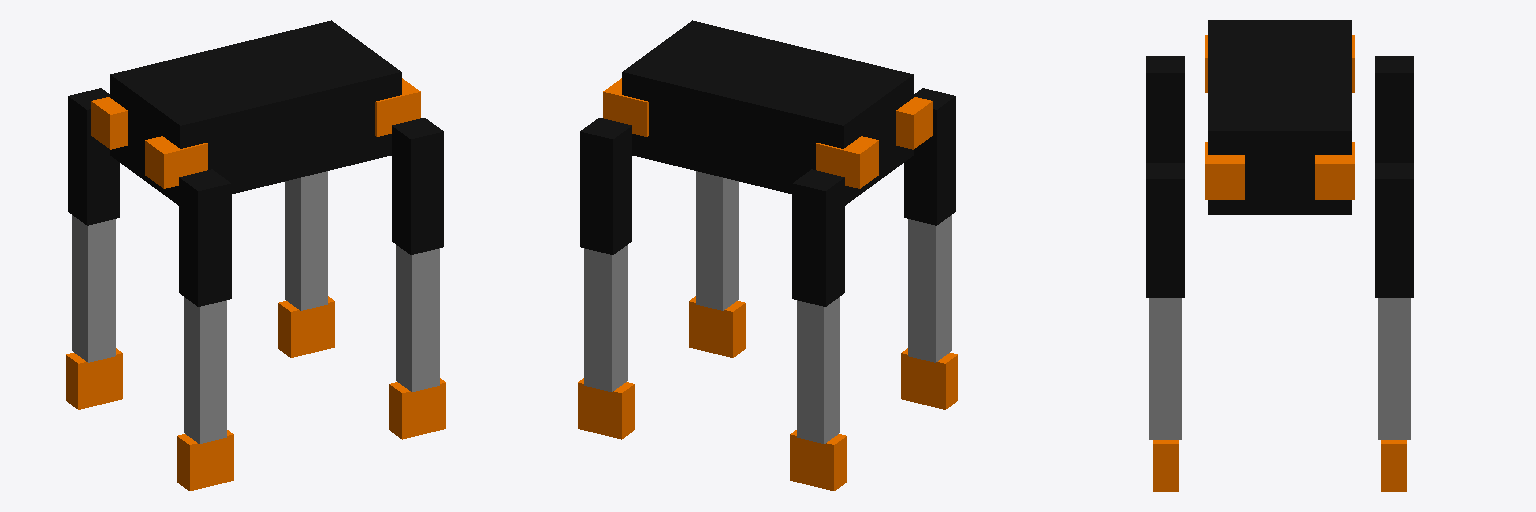
URDF robot description (spot_box_only):
<?xml version="1.0" encoding="utf-8"?>
<robot name="spot_box_only">

  <material name="orange">
    <color rgba="1.0 0.5 0.0 1"/>
  </material>
  <material name="black">
    <color rgba="0.1 0.1 0.1 1"/>
  </material>
  <material name="grey">
    <color rgba="0.6 0.6 0.6 1"/>
  </material>

  <!-- =========================
       BASE
       ========================= -->
  <link name="base_link">
    <visual>
      <origin xyz="0 0 0" rpy="0 0 0"/>
      <geometry>
        <box size="0.20 0.11 0.07"/>
      </geometry>
      <material name="black"/>
    </visual>
    <collision>
      <origin xyz="0 0 0" rpy="0 0 0"/>
      <geometry>
        <box size="0.20 0.11 0.07"/>
      </geometry>
    </collision>
    <inertial>
      <origin xyz="0 0 0" rpy="0 0 0"/>
      <mass value="1.2"/>
      <inertia ixx="0.0025" ixy="0" ixz="0"
               iyy="0.0015" iyz="0"
               izz="0.0026"/>
    </inertial>
  </link>

  <!-- =========================
       FRONT LEFT
       ========================= -->
  <link name="front_left_hip">
    <visual>
      <origin xyz="0 0 0" rpy="0 0 0"/>
      <geometry>
        <box size="0.04 0.03 0.03"/>
      </geometry>
      <material name="orange"/>
    </visual>
    <collision>
      <origin xyz="0 0 0" rpy="0 0 0"/>
      <geometry>
        <box size="0.04 0.03 0.03"/>
      </geometry>
    </collision>
    <inertial>
      <origin xyz="0 0 0" rpy="0 0 0"/>
      <mass value="0.10"/>
      <inertia ixx="0.00014" ixy="0" ixz="0"
               iyy="0.00011" iyz="0"
               izz="0.00011"/>
    </inertial>
  </link>

  <joint name="motor_front_left_hip" type="revolute">
    <parent link="base_link"/>
    <child link="front_left_hip"/>
    <origin xyz="0.096 0.042 0.0" rpy="0 0 0"/>
    <axis xyz="1 0 0"/>
    <limit effort="100.0" lower="-1.04" upper="1.04" velocity="0.7"/>
    <dynamics damping="0.0" friction="0.0"/>
  </joint>

  <link name="front_left_upper_leg">
    <visual>
      <origin xyz="0 0 -0.05" rpy="0 0 0"/>
      <geometry>
        <box size="0.03 0.03 0.10"/>
      </geometry>
      <material name="black"/>
    </visual>
    <collision>
      <origin xyz="0 0 -0.05" rpy="0 0 0"/>
      <geometry>
        <box size="0.03 0.03 0.10"/>
      </geometry>
    </collision>
    <inertial>
      <origin xyz="0 0 -0.05" rpy="0 0 0"/>
      <mass value="0.10"/>
      <inertia ixx="0.00014" ixy="0" ixz="0"
               iyy="0.00014" iyz="0"
               izz="0.00003"/>
    </inertial>
  </link>

  <joint name="motor_front_left_upper_leg" type="revolute">
    <parent link="front_left_hip"/>
    <child link="front_left_upper_leg"/>
    <origin xyz="0.0 0.045 0.0" rpy="0 0 0"/>
    <axis xyz="0 1 0"/>
    <limit effort="100.0" lower="-1.571" upper="2.59" velocity="0.7"/>
    <dynamics damping="0.0" friction="0.0"/>
  </joint>

  <link name="front_left_lower_leg">
    <visual>
      <origin xyz="0 0 -0.06" rpy="0 0 0"/>
      <geometry>
        <box size="0.025 0.025 0.12"/>
      </geometry>
      <material name="grey"/>
    </visual>
    <collision>
      <origin xyz="0 0 -0.06" rpy="0 0 0"/>
      <geometry>
        <box size="0.025 0.025 0.12"/>
      </geometry>
    </collision>
    <inertial>
      <origin xyz="0 0 -0.06" rpy="0 0 0"/>
      <mass value="0.08"/>
      <inertia ixx="0.00007" ixy="0" ixz="0"
               iyy="0.00007" iyz="0"
               izz="0.00001"/>
    </inertial>
  </link>

  <joint name="motor_front_left_lower_leg" type="revolute">
    <parent link="front_left_upper_leg"/>
    <child link="front_left_lower_leg"/>
    <origin xyz="0.0 0.0 -0.10" rpy="0 0 0"/>
    <axis xyz="0 1 0"/>
    <limit effort="100.0" lower="-2.9" upper="1.671" velocity="0.7"/>
    <dynamics damping="0.0" friction="0.0"/>
  </joint>

  <link name="front_left_foot">
    <visual>
      <origin xyz="0 0 -0.02" rpy="0 0 0"/>
      <geometry>
        <box size="0.04 0.02 0.04"/>
      </geometry>
      <material name="orange"/>
    </visual>
    <collision>
      <origin xyz="0 0 -0.02" rpy="0 0 0"/>
      <geometry>
        <box size="0.04 0.02 0.04"/>
      </geometry>
    </collision>
    <inertial>
      <origin xyz="0 0 -0.02" rpy="0 0 0"/>
      <mass value="0.01"/>
      <inertia ixx="0.000005" ixy="0" ixz="0"
               iyy="0.000005" iyz="0"
               izz="0.000005"/>
    </inertial>
  </link>

  <joint name="front_left_leg_foot" type="fixed">
    <parent link="front_left_lower_leg"/>
    <child link="front_left_foot"/>
    <origin xyz="0 0 -0.12" rpy="0 0 0"/>
  </joint>

  <!-- =========================
       FRONT RIGHT
       ========================= -->
  <link name="front_right_hip">
    <visual><origin xyz="0 0 0"/><geometry><box size="0.04 0.03 0.03"/></geometry><material name="orange"/></visual>
    <collision><origin xyz="0 0 0"/><geometry><box size="0.04 0.03 0.03"/></geometry></collision>
    <inertial><origin xyz="0 0 0"/><mass value="0.10"/><inertia ixx="0.00014" ixy="0" ixz="0" iyy="0.00011" iyz="0" izz="0.00011"/></inertial>
  </link>

  <joint name="motor_front_right_hip" type="revolute">
    <parent link="base_link"/>
    <child link="front_right_hip"/>
    <origin xyz="0.096 -0.042 0.0" rpy="0 0 0"/>
    <axis xyz="1 0 0"/>
    <limit effort="100.0" lower="-1.04" upper="1.04" velocity="0.7"/>
  </joint>

  <link name="front_right_upper_leg">
    <visual><origin xyz="0 0 -0.05"/><geometry><box size="0.03 0.03 0.10"/></geometry><material name="black"/></visual>
    <collision><origin xyz="0 0 -0.05"/><geometry><box size="0.03 0.03 0.10"/></geometry></collision>
    <inertial><origin xyz="0 0 -0.05"/><mass value="0.10"/><inertia ixx="0.00014" ixy="0" ixz="0" iyy="0.00014" iyz="0" izz="0.00003"/></inertial>
  </link>

  <joint name="motor_front_right_upper_leg" type="revolute">
    <parent link="front_right_hip"/>
    <child link="front_right_upper_leg"/>
    <origin xyz="0.0 -0.045 0.0" rpy="0 0 0"/>
    <axis xyz="0 1 0"/>
    <limit effort="100.0" lower="-1.571" upper="2.59" velocity="0.7"/>
  </joint>

  <link name="front_right_lower_leg">
    <visual><origin xyz="0 0 -0.06"/><geometry><box size="0.025 0.025 0.12"/></geometry><material name="grey"/></visual>
    <collision><origin xyz="0 0 -0.06"/><geometry><box size="0.025 0.025 0.12"/></geometry></collision>
    <inertial><origin xyz="0 0 -0.06"/><mass value="0.08"/><inertia ixx="0.00007" ixy="0" ixz="0" iyy="0.00007" iyz="0" izz="0.00001"/></inertial>
  </link>

  <joint name="motor_front_right_lower_leg" type="revolute">
    <parent link="front_right_upper_leg"/>
    <child link="front_right_lower_leg"/>
    <origin xyz="0.0 0.0 -0.10" rpy="0 0 0"/>
    <axis xyz="0 1 0"/>
    <limit effort="100.0" lower="-2.9" upper="1.671" velocity="0.7"/>
  </joint>

  <link name="front_right_foot">
    <visual><origin xyz="0 0 -0.02"/><geometry><box size="0.04 0.02 0.04"/></geometry><material name="orange"/></visual>
    <collision><origin xyz="0 0 -0.02"/><geometry><box size="0.04 0.02 0.04"/></geometry></collision>
    <inertial><origin xyz="0 0 -0.02"/><mass value="0.01"/><inertia ixx="0.000005" ixy="0" ixz="0" iyy="0.000005" iyz="0" izz="0.000005"/></inertial>
  </link>

  <joint name="front_right_leg_foot" type="fixed">
    <parent link="front_right_lower_leg"/>
    <child link="front_right_foot"/>
    <origin xyz="0 0 -0.12" rpy="0 0 0"/>
  </joint>

  <!-- =========================
       BACK LEFT
       ========================= -->
  <link name="back_left_hip">
    <visual><origin xyz="0 0 0"/><geometry><box size="0.04 0.03 0.03"/></geometry><material name="orange"/></visual>
    <collision><origin xyz="0 0 0"/><geometry><box size="0.04 0.03 0.03"/></geometry></collision>
    <inertial><origin xyz="0 0 0"/><mass value="0.10"/><inertia ixx="0.00014" ixy="0" ixz="0" iyy="0.00011" iyz="0" izz="0.00011"/></inertial>
  </link>

  <joint name="motor_back_left_hip" type="revolute">
    <parent link="base_link"/>
    <child link="back_left_hip"/>
    <origin xyz="-0.096 0.042 0.0" rpy="0 0 0"/>
    <axis xyz="1 0 0"/>
    <limit effort="100.0" lower="-1.04" upper="1.04" velocity="0.7"/>
  </joint>

  <link name="back_left_upper_leg">
    <visual><origin xyz="0 0 -0.05"/><geometry><box size="0.03 0.03 0.10"/></geometry><material name="black"/></visual>
    <collision><origin xyz="0 0 -0.05"/><geometry><box size="0.03 0.03 0.10"/></geometry></collision>
    <inertial><origin xyz="0 0 -0.05"/><mass value="0.10"/><inertia ixx="0.00014" ixy="0" ixz="0" iyy="0.00014" iyz="0" izz="0.00003"/></inertial>
  </link>

  <joint name="motor_back_left_upper_leg" type="revolute">
    <parent link="back_left_hip"/>
    <child link="back_left_upper_leg"/>
    <origin xyz="0.0 0.045 0.0" rpy="0 0 0"/>
    <axis xyz="0 1 0"/>
    <limit effort="100.0" lower="-1.571" upper="2.59" velocity="0.7"/>
  </joint>

  <link name="back_left_lower_leg">
    <visual><origin xyz="0 0 -0.06"/><geometry><box size="0.025 0.025 0.12"/></geometry><material name="grey"/></visual>
    <collision><origin xyz="0 0 -0.06"/><geometry><box size="0.025 0.025 0.12"/></geometry></collision>
    <inertial><origin xyz="0 0 -0.06"/><mass value="0.08"/><inertia ixx="0.00007" ixy="0" ixz="0" iyy="0.00007" iyz="0" izz="0.00001"/></inertial>
  </link>

  <joint name="motor_back_left_lower_leg" type="revolute">
    <parent link="back_left_upper_leg"/>
    <child link="back_left_lower_leg"/>
    <origin xyz="0.0 0.0 -0.10" rpy="0 0 0"/>
    <axis xyz="0 1 0"/>
    <limit effort="100.0" lower="-2.9" upper="1.671" velocity="0.7"/>
  </joint>

  <link name="back_left_foot">
    <visual><origin xyz="0 0 -0.02"/><geometry><box size="0.04 0.02 0.04"/></geometry><material name="orange"/></visual>
    <collision><origin xyz="0 0 -0.02"/><geometry><box size="0.04 0.02 0.04"/></geometry></collision>
    <inertial><origin xyz="0 0 -0.02"/><mass value="0.01"/><inertia ixx="0.000005" ixy="0" ixz="0" iyy="0.000005" iyz="0" izz="0.000005"/></inertial>
  </link>

  <joint name="back_left_leg_foot" type="fixed">
    <parent link="back_left_lower_leg"/>
    <child link="back_left_foot"/>
    <origin xyz="0 0 -0.12" rpy="0 0 0"/>
  </joint>

  <!-- =========================
       BACK RIGHT
       ========================= -->
  <link name="back_right_hip">
    <visual><origin xyz="0 0 0"/><geometry><box size="0.04 0.03 0.03"/></geometry><material name="orange"/></visual>
    <collision><origin xyz="0 0 0"/><geometry><box size="0.04 0.03 0.03"/></geometry></collision>
    <inertial><origin xyz="0 0 0"/><mass value="0.10"/><inertia ixx="0.00014" ixy="0" ixz="0" iyy="0.00011" iyz="0" izz="0.00011"/></inertial>
  </link>

  <joint name="motor_back_right_hip" type="revolute">
    <parent link="base_link"/>
    <child link="back_right_hip"/>
    <origin xyz="-0.096 -0.042 0.0" rpy="0 0 0"/>
    <axis xyz="1 0 0"/>
    <limit effort="100.0" lower="-1.04" upper="1.04" velocity="0.7"/>
  </joint>

  <link name="back_right_upper_leg">
    <visual><origin xyz="0 0 -0.05"/><geometry><box size="0.03 0.03 0.10"/></geometry><material name="black"/></visual>
    <collision><origin xyz="0 0 -0.05"/><geometry><box size="0.03 0.03 0.10"/></geometry></collision>
    <inertial><origin xyz="0 0 -0.05"/><mass value="0.10"/><inertia ixx="0.00014" ixy="0" ixz="0" iyy="0.00014" iyz="0" izz="0.00003"/></inertial>
  </link>

  <joint name="motor_back_right_upper_leg" type="revolute">
    <parent link="back_right_hip"/>
    <child link="back_right_upper_leg"/>
    <origin xyz="0.0 -0.045 0.0" rpy="0 0 0"/>
    <axis xyz="0 1 0"/>
    <limit effort="100.0" lower="-1.571" upper="2.59" velocity="0.7"/>
  </joint>

  <link name="back_right_lower_leg">
    <visual><origin xyz="0 0 -0.06"/><geometry><box size="0.025 0.025 0.12"/></geometry><material name="grey"/></visual>
    <collision><origin xyz="0 0 -0.06"/><geometry><box size="0.025 0.025 0.12"/></geometry></collision>
    <inertial><origin xyz="0 0 -0.06"/><mass value="0.08"/><inertia ixx="0.00007" ixy="0" ixz="0" iyy="0.00007" iyz="0" izz="0.00001"/></inertial>
  </link>

  <joint name="motor_back_right_lower_leg" type="revolute">
    <parent link="back_right_upper_leg"/>
    <child link="back_right_lower_leg"/>
    <origin xyz="0.0 0.0 -0.10" rpy="0 0 0"/>
    <axis xyz="0 1 0"/>
    <limit effort="100.0" lower="-2.9" upper="1.671" velocity="0.7"/>
  </joint>

  <link name="back_right_foot">
    <visual><origin xyz="0 0 -0.02"/><geometry><box size="0.04 0.02 0.04"/></geometry><material name="orange"/></visual>
    <collision><origin xyz="0 0 -0.02"/><geometry><box size="0.04 0.02 0.04"/></geometry></collision>
    <inertial><origin xyz="0 0 -0.02"/><mass value="0.01"/><inertia ixx="0.000005" ixy="0" ixz="0" iyy="0.000005" iyz="0" izz="0.000005"/></inertial>
  </link>

  <joint name="back_right_leg_foot" type="fixed">
    <parent link="back_right_lower_leg"/>
    <child link="back_right_foot"/>
    <origin xyz="0 0 -0.12" rpy="0 0 0"/>
  </joint>

</robot>

--- Render facts (derived) ---
3 views of the same robot in one strip: view 1: azimuth 30°, elevation 25°; view 2: azimuth 150°, elevation 25°; view 3: azimuth 270°, elevation 25° (orthographic).
Model spot_box_only with 17 links and 16 joints (12 revolute, 4 fixed), rooted at base_link, posed every joint at zero.
Visible links, largest first — view 1: base_link, back_right_upper_leg, front_right_upper_leg, front_right_lower_leg, back_left_lower_leg, back_right_lower_leg, front_left_lower_leg, back_left_upper_leg, back_right_foot, front_left_foot, front_right_foot, back_left_foot (+3 smaller); view 2: base_link, back_left_upper_leg, front_left_upper_leg, front_left_lower_leg, back_right_lower_leg, back_left_lower_leg, front_right_lower_leg, back_right_upper_leg, back_left_foot, front_right_foot, front_left_foot, back_right_foot (+3 smaller); view 3: base_link, front_left_upper_leg, front_right_upper_leg, front_left_lower_leg, front_right_lower_leg, back_left_upper_leg, back_right_upper_leg, front_left_hip, front_right_hip, front_left_foot, front_right_foot.
Link boxes in pixels (x1,y1,x2,y2): base_link: [110, 20, 401, 205]; back_right_upper_leg: [179, 169, 231, 306]; front_right_upper_leg: [392, 118, 443, 254]; front_right_lower_leg: [396, 245, 439, 391]; back_left_lower_leg: [72, 215, 115, 362]; back_right_lower_leg: [184, 297, 226, 443]; front_left_lower_leg: [285, 171, 327, 310]; back_left_upper_leg: [68, 88, 119, 225]; back_right_foot: [177, 430, 233, 490]; front_left_foot: [278, 296, 334, 357]; front_right_foot: [389, 378, 445, 439]; back_left_foot: [66, 348, 122, 409]; base_link: [622, 20, 913, 205]; back_left_upper_leg: [792, 169, 844, 306]; front_left_upper_leg: [580, 118, 631, 254]; front_left_lower_leg: [584, 245, 627, 391]; back_right_lower_leg: [908, 215, 951, 362]; back_left_lower_leg: [797, 297, 839, 443]; front_right_lower_leg: [696, 171, 738, 310]; back_right_upper_leg: [904, 88, 955, 225]; back_left_foot: [790, 430, 846, 490]; front_right_foot: [689, 296, 745, 357]; front_left_foot: [578, 378, 634, 439]; back_right_foot: [901, 348, 957, 409]; base_link: [1208, 20, 1351, 214]; front_left_upper_leg: [1375, 163, 1413, 297]; front_right_upper_leg: [1146, 163, 1184, 297]; front_left_lower_leg: [1378, 298, 1410, 439]; front_right_lower_leg: [1149, 298, 1181, 439]; back_left_upper_leg: [1375, 56, 1413, 162]; back_right_upper_leg: [1146, 56, 1184, 162]; front_left_hip: [1315, 142, 1354, 199]; front_right_hip: [1205, 142, 1244, 199]; front_left_foot: [1381, 440, 1406, 491]; front_right_foot: [1153, 440, 1178, 491].
Bounding box of the posed robot: 0.232 × 0.204 × 0.295 m (x, y, z).
Geometry: primitives only (box / cylinder / sphere), no mesh files.
